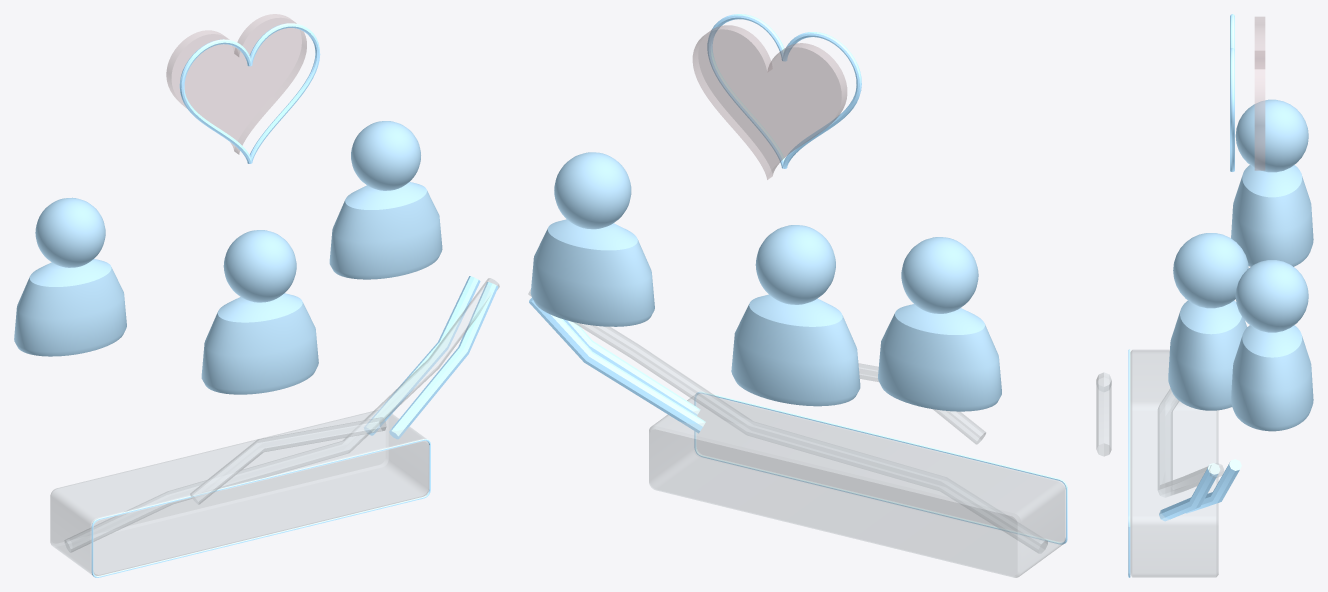
The model's file is 46-social-programs.glb.
The picture shows the model from 3 angles, left to right: view 1: azimuth 30°, elevation 25°; view 2: azimuth 150°, elevation 25°; view 3: azimuth 270°, elevation 25°; orthographic projection. The views are drawn at different scales.
Parts seen in each view (by area): view 1: BC etched pale glass, BC thin clear technical glass, BC subtle ruby technical glass, BC cool glass edge; view 2: BC etched pale glass, BC thin clear technical glass, BC subtle ruby technical glass, BC cool glass edge; view 3: BC etched pale glass, BC thin clear technical glass, BC cool glass edge, BC subtle ruby technical glass.
Part boxes in pixels (x1,y1,x2,y2): BC etched pale glass: (14,121,442,394); BC thin clear technical glass: (50,278,499,575); BC subtle ruby technical glass: (166,14,306,154); BC cool glass edge: (91,23,498,577); BC etched pale glass: (530,152,1001,411); BC thin clear technical glass: (528,289,1065,577); BC subtle ruby technical glass: (692,25,847,179); BC cool glass edge: (529,14,1067,544); BC etched pale glass: (1168,99,1313,431); BC thin clear technical glass: (1096,349,1224,577); BC cool glass edge: (1128,14,1241,577); BC subtle ruby technical glass: (1254,16,1265,170).
Bounding box in the file's own units: 1.78 × 1.73 × 0.7102.
